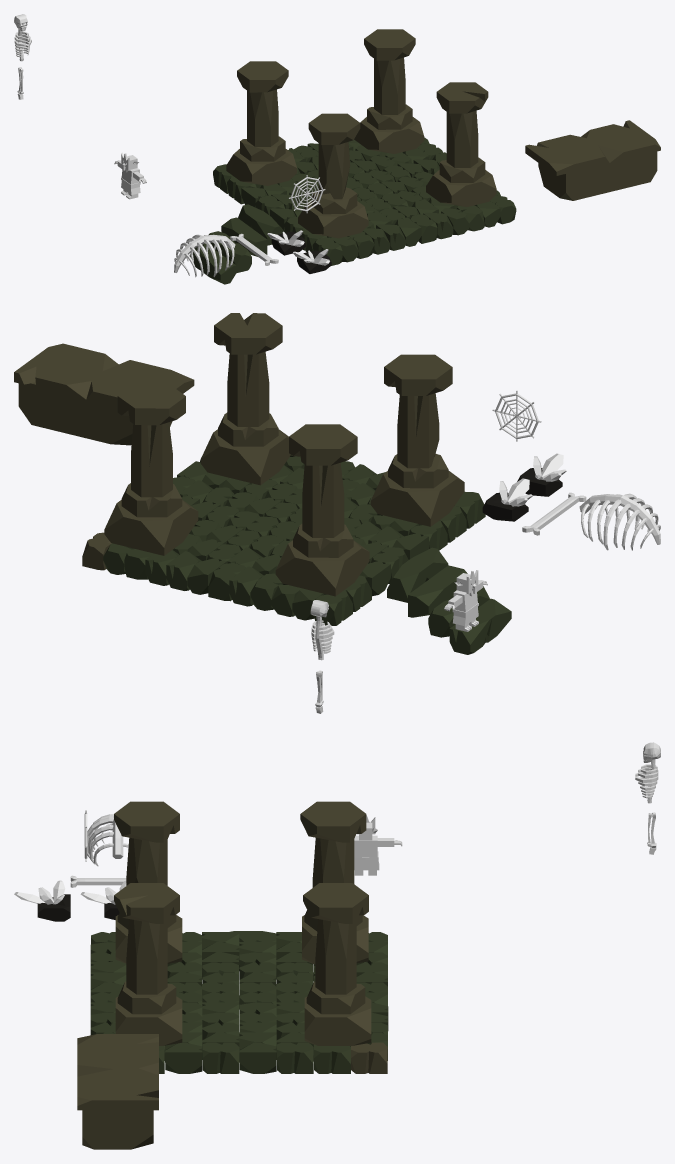
File: Location.fbx
3 views of the same model, one above another, from view 1: azimuth 30°, elevation 25°; view 2: azimuth 150°, elevation 25°; view 3: azimuth 270°, elevation 25° (orthographic). The views are drawn at different scales.
Parts seen in each view (by area): view 1: Cube.118, Cube.104, Cylinder.004, Cylinder.001, Cylinder.010, Cube.100, Cube.098, Cube.099, Cube.096, Cylinder.007, Cylinder.008, Cylinder.005 (+24 smaller); view 2: Cube.118, Cube.104, Cube.100, Cube.096, Cube.099, Cube.098, Cylinder.004, Cylinder.010, Cylinder.001, Cylinder.007, Cylinder.002, Cylinder.011 (+34 smaller); view 3: Cube.118, Cylinder.001, Cylinder.004, Cube.104, Cube.096, Cylinder.011, Cylinder.008, Cylinder.002, Cylinder.005, Cube.098, Cylinder.010, Cylinder.007 (+12 smaller).
Part boxes in pixels (x1=…): Cube.118: x1=525, y1=120, x2=660, y2=175; Cube.104: x1=538, y1=151, x2=657, y2=200; Cylinder.004: x1=446, y1=110, x2=478, y2=167; Cylinder.001: x1=374, y1=57, x2=405, y2=114; Cylinder.010: x1=247, y1=89, x2=278, y2=146; Cube.100: x1=226, y1=149, x2=296, y2=185; Cube.098: x1=426, y1=170, x2=496, y2=206; Cube.099: x1=298, y1=201, x2=368, y2=238; Cube.096: x1=354, y1=117, x2=424, y2=153; Cylinder.007: x1=318, y1=142, x2=350, y2=199; Cylinder.008: x1=308, y1=113, x2=360, y2=144; Cylinder.005: x1=436, y1=82, x2=488, y2=113; Cube.118: x1=14, y1=343, x2=194, y2=407; Cube.104: x1=18, y1=382, x2=172, y2=445; Cube.100: x1=275, y1=540, x2=369, y2=596; Cube.096: x1=104, y1=500, x2=198, y2=555; Cube.099: x1=370, y1=471, x2=464, y2=526; Cube.098: x1=200, y1=429, x2=290, y2=485; Cylinder.004: x1=227, y1=351, x2=269, y2=426; Cylinder.010: x1=302, y1=463, x2=344, y2=537; Cylinder.001: x1=131, y1=422, x2=172, y2=497; Cylinder.007: x1=397, y1=393, x2=439, y2=468; Cylinder.002: x1=117, y1=383, x2=185, y2=425; Cylinder.011: x1=289, y1=424, x2=357, y2=465; Cube.118: x1=77, y1=1034, x2=158, y2=1110; Cylinder.001: x1=315, y1=919, x2=356, y2=994; Cylinder.004: x1=126, y1=919, x2=167, y2=994; Cube.104: x1=82, y1=1110, x2=153, y2=1149; Cube.096: x1=304, y1=996, x2=371, y2=1045; Cylinder.011: x1=300, y1=801, x2=366, y2=842; Cylinder.008: x1=114, y1=801, x2=179, y2=842; Cylinder.002: x1=303, y1=883, x2=368, y2=923; Cylinder.005: x1=114, y1=883, x2=179, y2=923; Cube.098: x1=115, y1=996, x2=182, y2=1045; Cylinder.010: x1=312, y1=837, x2=354, y2=887; Cylinder.007: x1=126, y1=837, x2=167, y2=885.
Size of the model in its own units: 6004 by 1902 by 5485.
